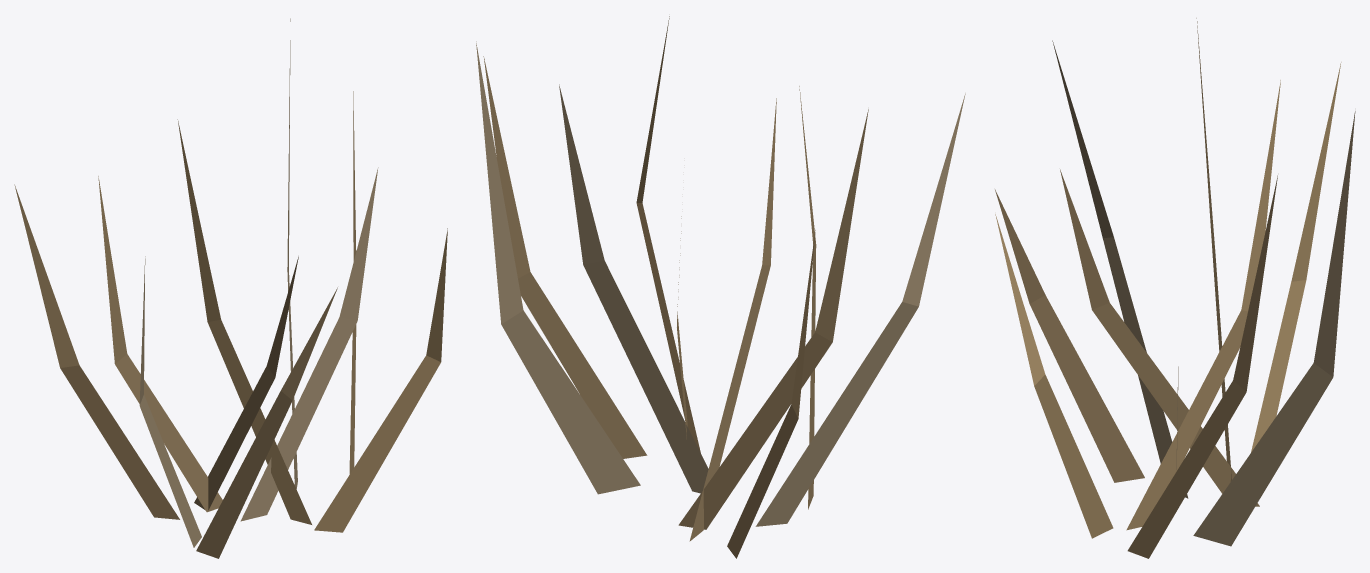
File: Dead_Bush_b_02.fbx
The picture shows the model from 3 angles, left to right: view 1: azimuth 30°, elevation 25°; view 2: azimuth 150°, elevation 25°; view 3: azimuth 270°, elevation 25°; orthographic projection. The views are drawn at different scales.
Parts seen in each view (by area): view 1: Dead_Bush_b_02; view 2: Dead_Bush_b_02; view 3: Dead_Bush_b_02.
Boxes of the visible parts, x1,y1,x2,y2 form: Dead_Bush_b_02: (14, 18, 447, 558); Dead_Bush_b_02: (476, 16, 965, 558); Dead_Bush_b_02: (995, 18, 1355, 558).
Size of the model in its own units: 0.4618 by 0.6082 by 0.4153.
